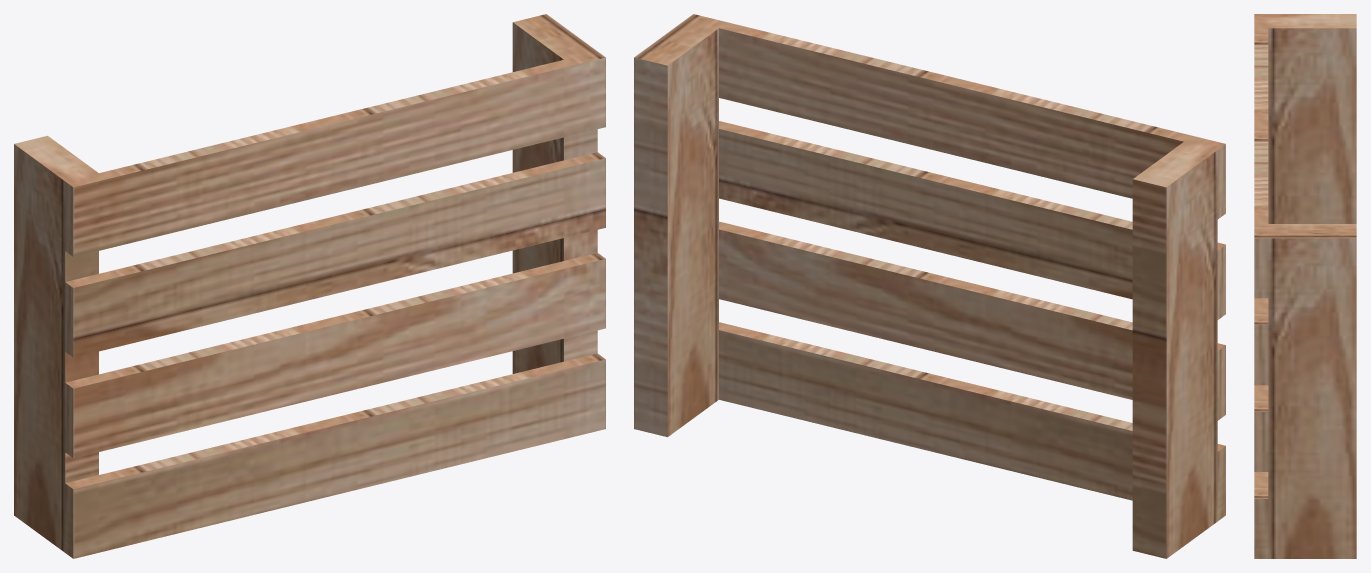
File: New_600x400_2way_Wooden_Pallet.dae
3 views of the same model, side by side, from view 1: azimuth 30°, elevation 25°; view 2: azimuth 150°, elevation 25°; view 3: azimuth 270°, elevation 25° (orthographic). The views are drawn at different scales.
Visible parts, largest first — view 1: Node_0x7f01f00bcc20; view 2: Node_0x7f01f00bcc20; view 3: Node_0x7f01f00bcc20.
Boxes of the visible parts, left/top/right/bottom form: Node_0x7f01f00bcc20: left=14, top=14, right=605, bottom=558; Node_0x7f01f00bcc20: left=634, top=14, right=1225, bottom=558; Node_0x7f01f00bcc20: left=1254, top=14, right=1356, bottom=558.
Size of the model in its own units: 0.6 by 0.4 by 0.116.
1 material, 1 textured.
